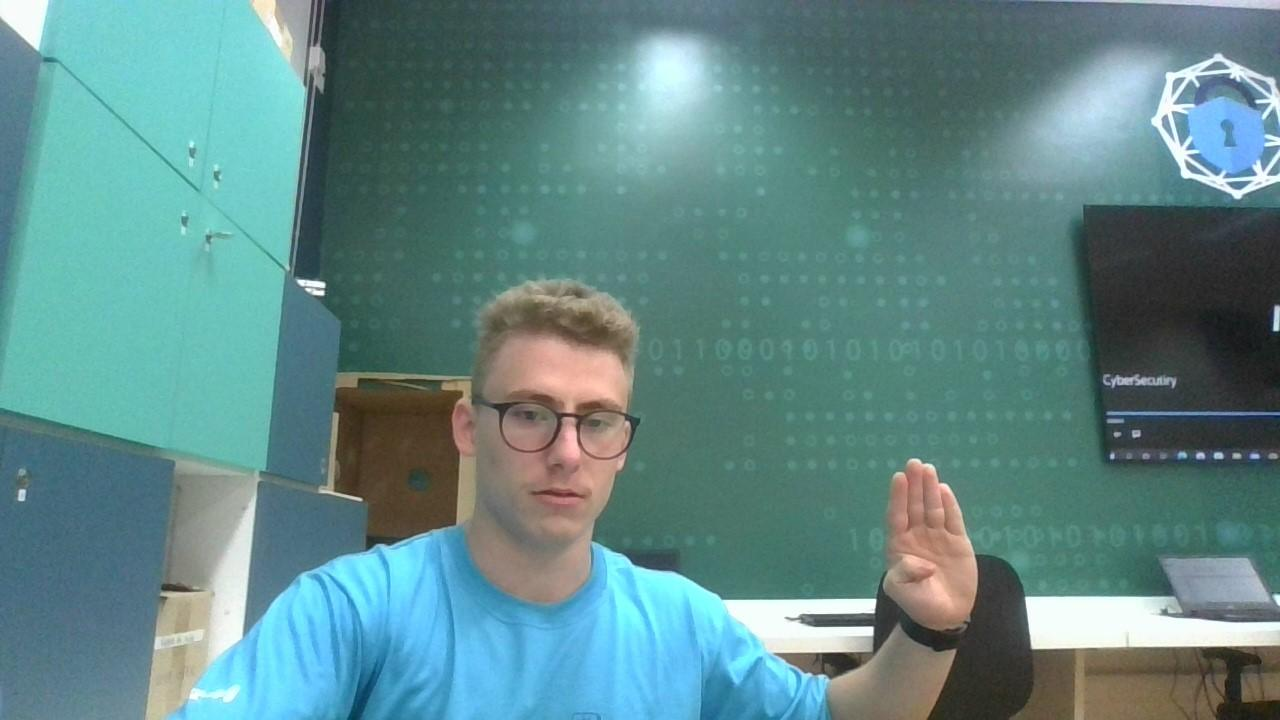B: (865, 458, 988, 640)
